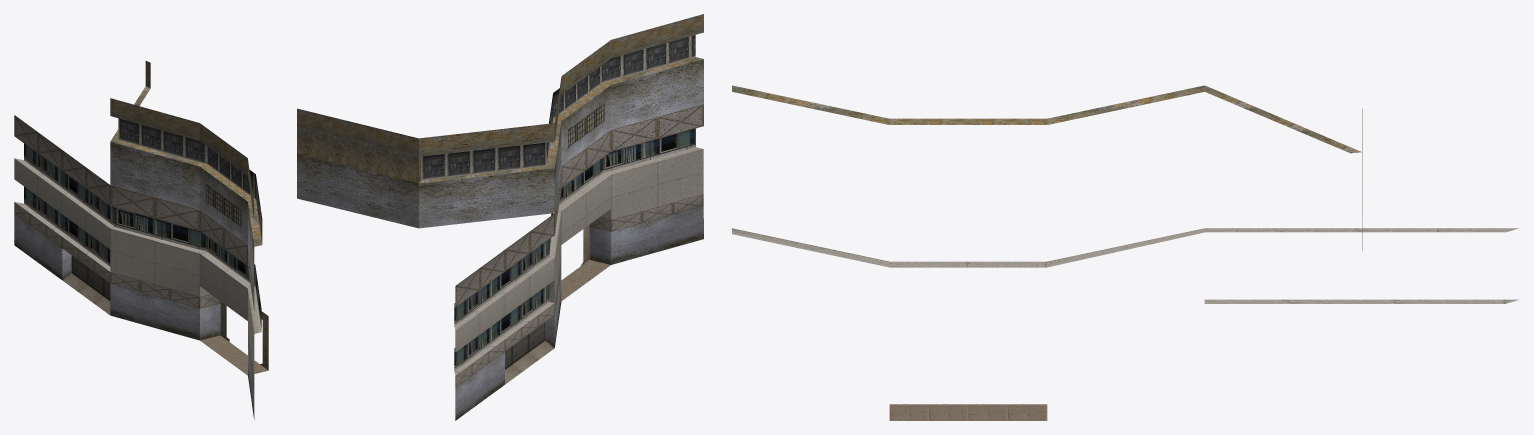
The model's file is M11Z1_Building02_A_Ext.glb.
3 views of the same model, side by side, from view 1: azimuth 30°, elevation 25°; view 2: azimuth 150°, elevation 25°; view 3: azimuth 270°, elevation 25° (orthographic). The views are drawn at different scales.
Visible parts, largest first — view 1: M11Z1_BUILDING02_A_EXT; view 2: M11Z1_BUILDING02_A_EXT; view 3: M11Z1_BUILDING02_A_EXT.
Part boxes in pixels (box(x1,y1,x2,y2)): M11Z1_BUILDING02_A_EXT: box(14, 61, 268, 419); M11Z1_BUILDING02_A_EXT: box(297, 14, 703, 420); M11Z1_BUILDING02_A_EXT: box(732, 85, 1518, 420).
Size of the model in its own units: 19.35 by 20 by 40.
Materials: 11 (11 with a texture image).
